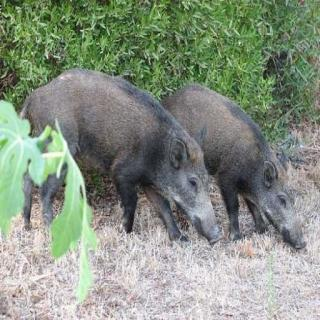Pig: (12, 53, 224, 260), (148, 39, 320, 289)
